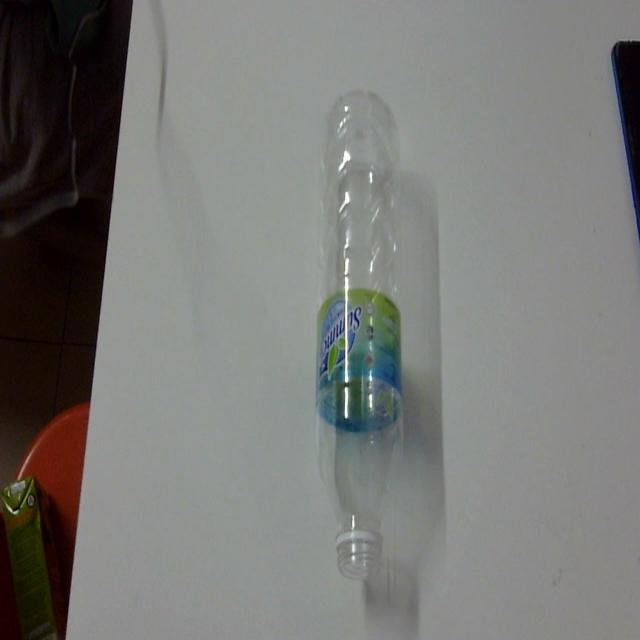plastic_laydown_90rotation: (308, 79, 416, 592)
